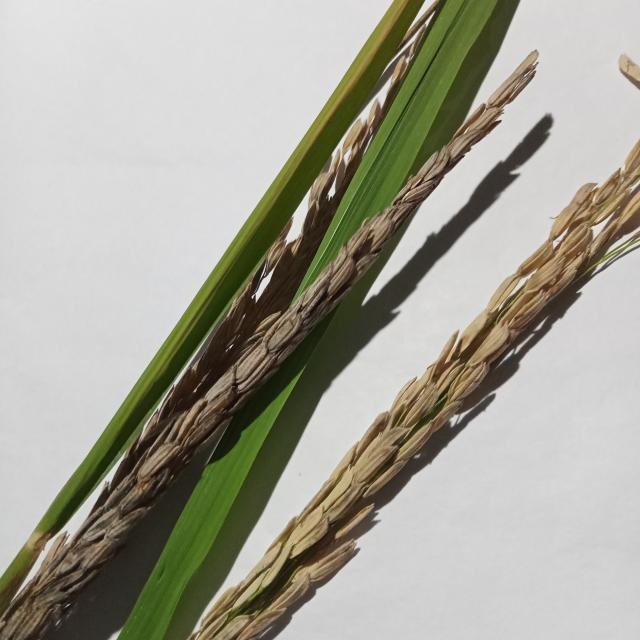Neck_Blast: (3, 57, 549, 640), (178, 123, 640, 640)
